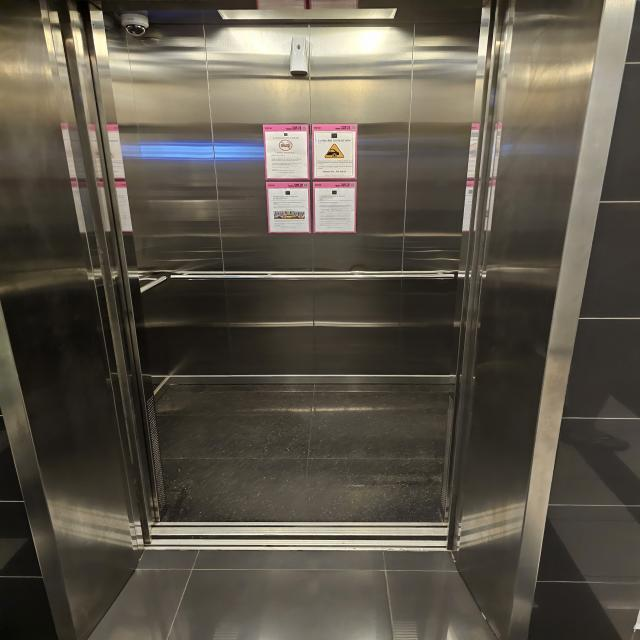footpath: (167, 384, 444, 633)
